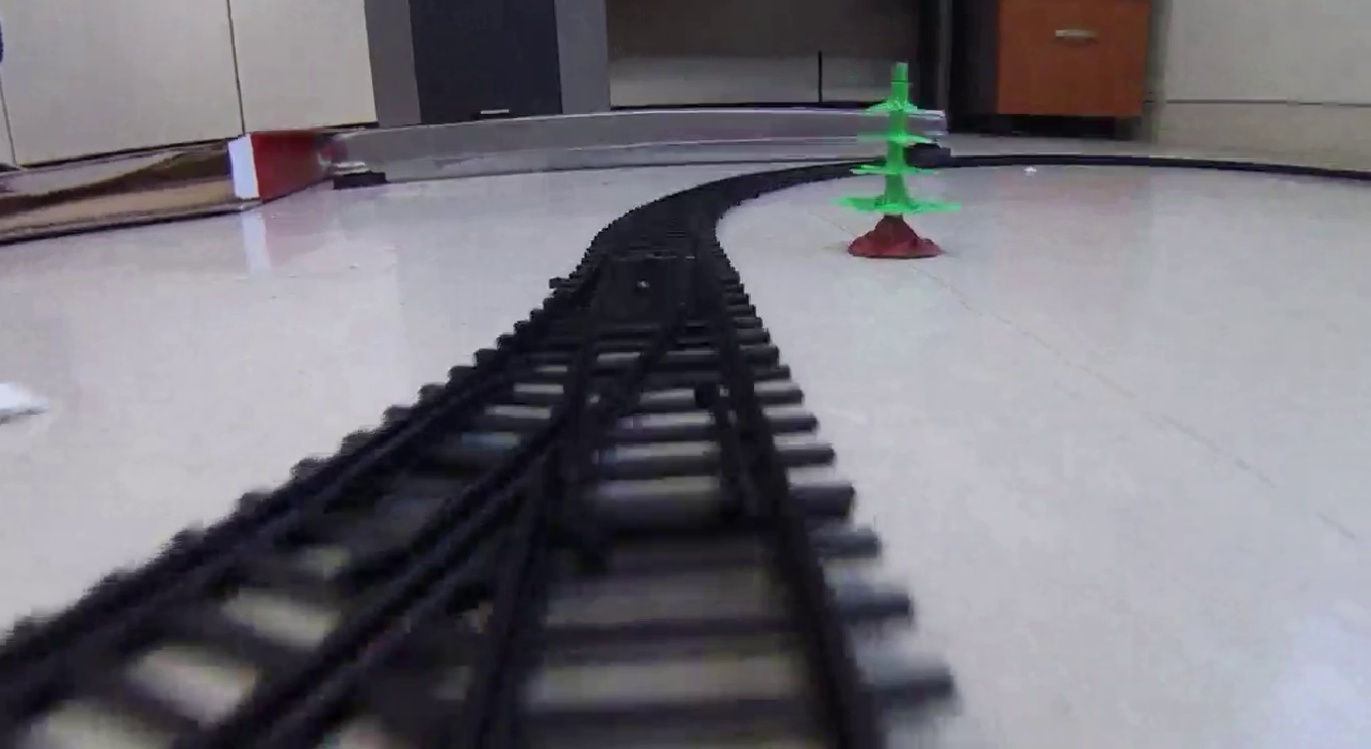tree: (830, 62, 958, 257)
